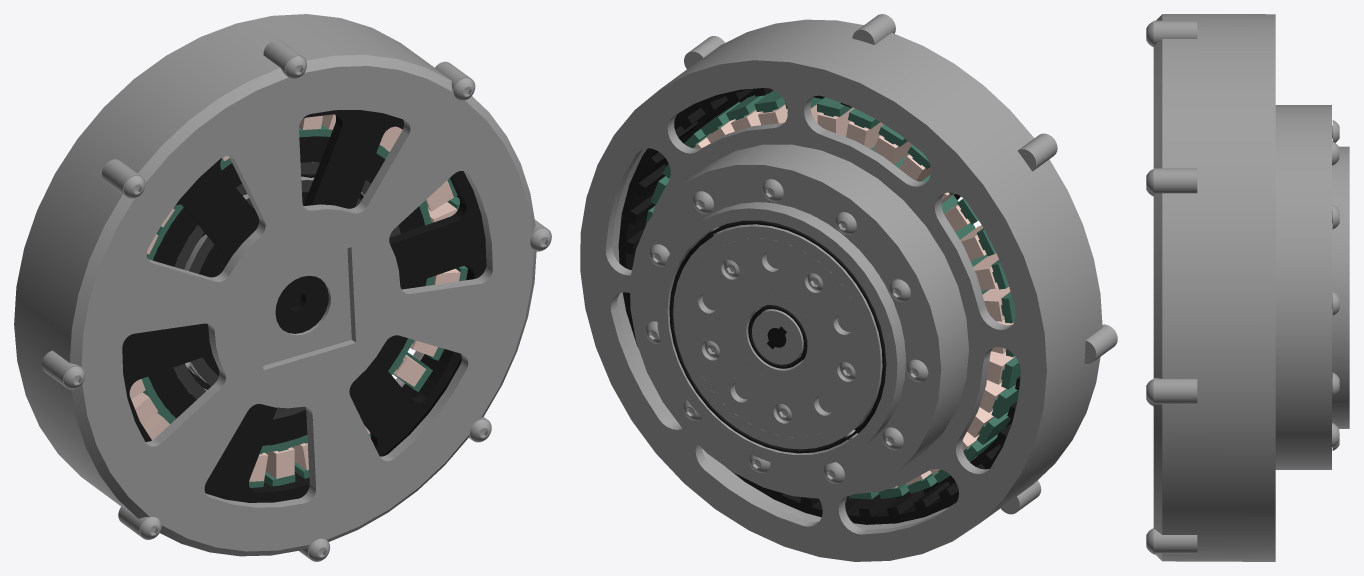
Rendered from BLDCmotor.obj.
The picture shows the model from 3 angles, left to right: view 1: azimuth 30°, elevation 25°; view 2: azimuth 150°, elevation 25°; view 3: azimuth 270°, elevation 25°; orthographic projection.
Parts seen in each view (by area): view 1: Lid, gearing cover, Rotor, fixed ring, Stator, Body1:1, Body1:2, Output shaft, Body26; view 2: gearing cover, output disk, Body1:6, Rotor, Body1:7, Stator, Holder:5, Body112:3, Lid, Body163:3, Holder:4; view 3: gearing cover, Lid, Body1:6.
Part boxes in pixels (<box>): Lid: <box>56,51,551,561</box>; gearing cover: <box>14,14,540,554</box>; Rotor: <box>122,110,486,502</box>; fixed ring: <box>148,136,426,445</box>; Stator: <box>141,124,467,487</box>; Body1:1: <box>173,162,401,419</box>; Body1:2: <box>184,176,361,386</box>; Output shaft: <box>199,192,308,375</box>; Body26: <box>265,447,294,478</box>; gearing cover: <box>580,18,1111,561</box>; output disk: <box>684,238,869,437</box>; Body1:6: <box>656,202,905,467</box>; Rotor: <box>618,88,1020,524</box>; Body1:7: <box>673,224,882,449</box>; Stator: <box>645,90,1020,499</box>; Holder:5: <box>669,220,886,453</box>; Body112:3: <box>736,294,817,381</box>; Lid: <box>704,14,1117,508</box>; Body163:3: <box>752,309,803,364</box>; Holder:4: <box>748,305,807,368</box>; gearing cover: <box>1166,14,1331,561</box>; Lid: <box>1153,14,1166,561</box>; Body1:6: <box>1332,146,1349,428</box>.
Bounding box in the file's own units: 13.18 × 13.18 × 4.67.
